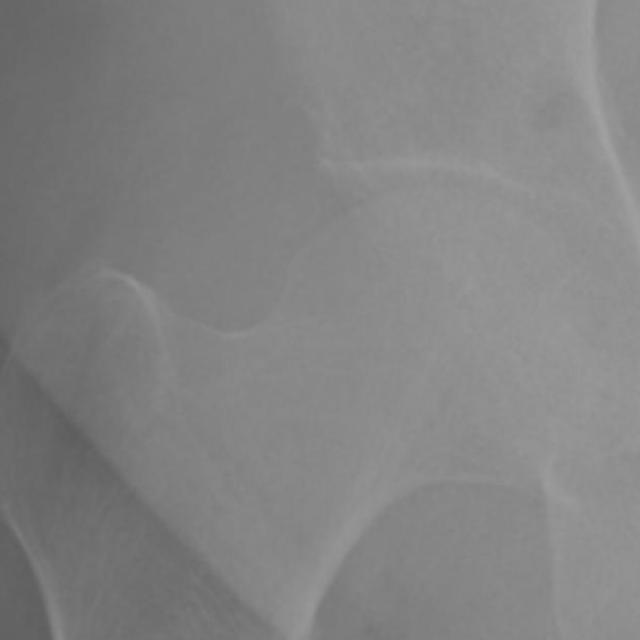Fitted_femural_head: (323, 187, 432, 323)
